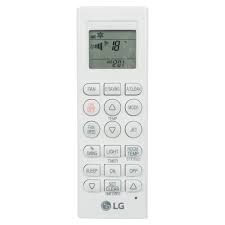remote control: (78, 6, 151, 215)
